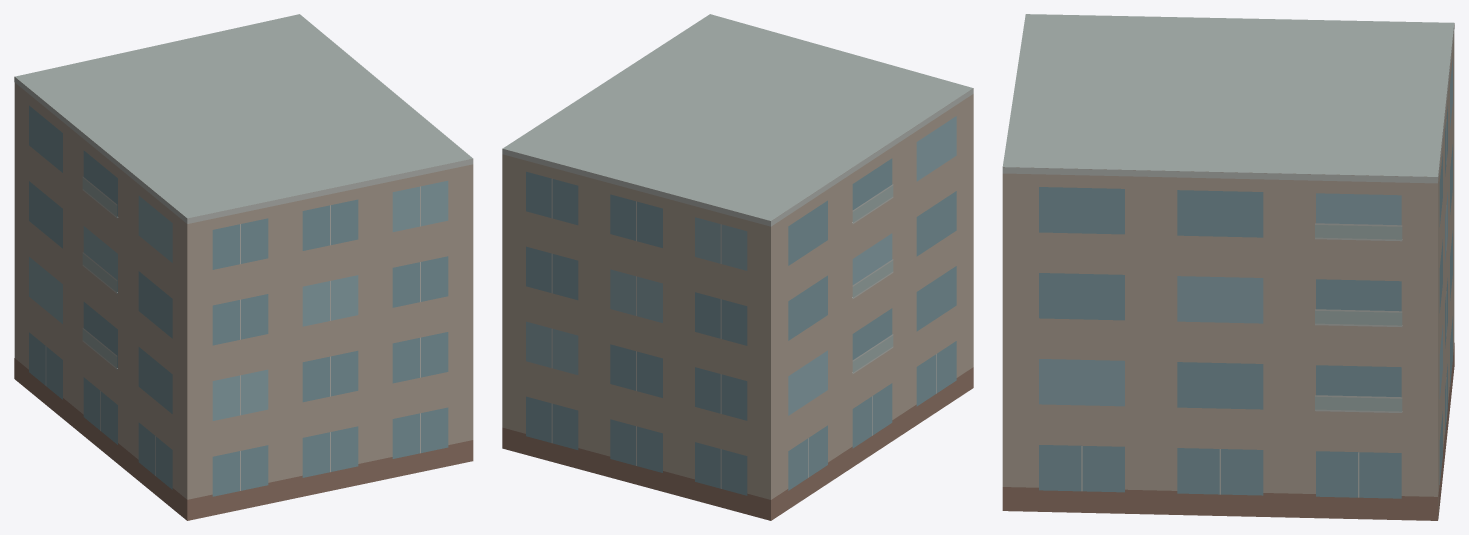
The model's file is survey-upis-32708868.glb.
3 views of the same model, side by side, from view 1: azimuth 30°, elevation 25°; view 2: azimuth 150°, elevation 25°; view 3: azimuth 270°, elevation 25° (orthographic). The views are drawn at different scales.
Parts seen in each view (by area): view 1: survey-upis-32708868.tmp; view 2: survey-upis-32708868.tmp; view 3: survey-upis-32708868.tmp.
Boxes of the visible parts, box(x1,y1,x2,y2) form: survey-upis-32708868.tmp: box(14, 14, 473, 520); survey-upis-32708868.tmp: box(502, 14, 973, 520); survey-upis-32708868.tmp: box(1002, 14, 1454, 520).
Size of the model in its own units: 13.28 by 13.05 by 15.55.
